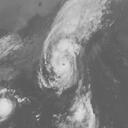cyclone: (40, 1, 110, 92)
